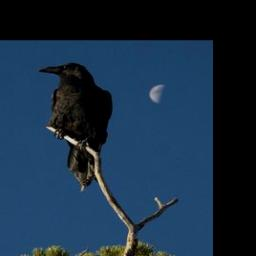Crow: (36, 62, 114, 194)
